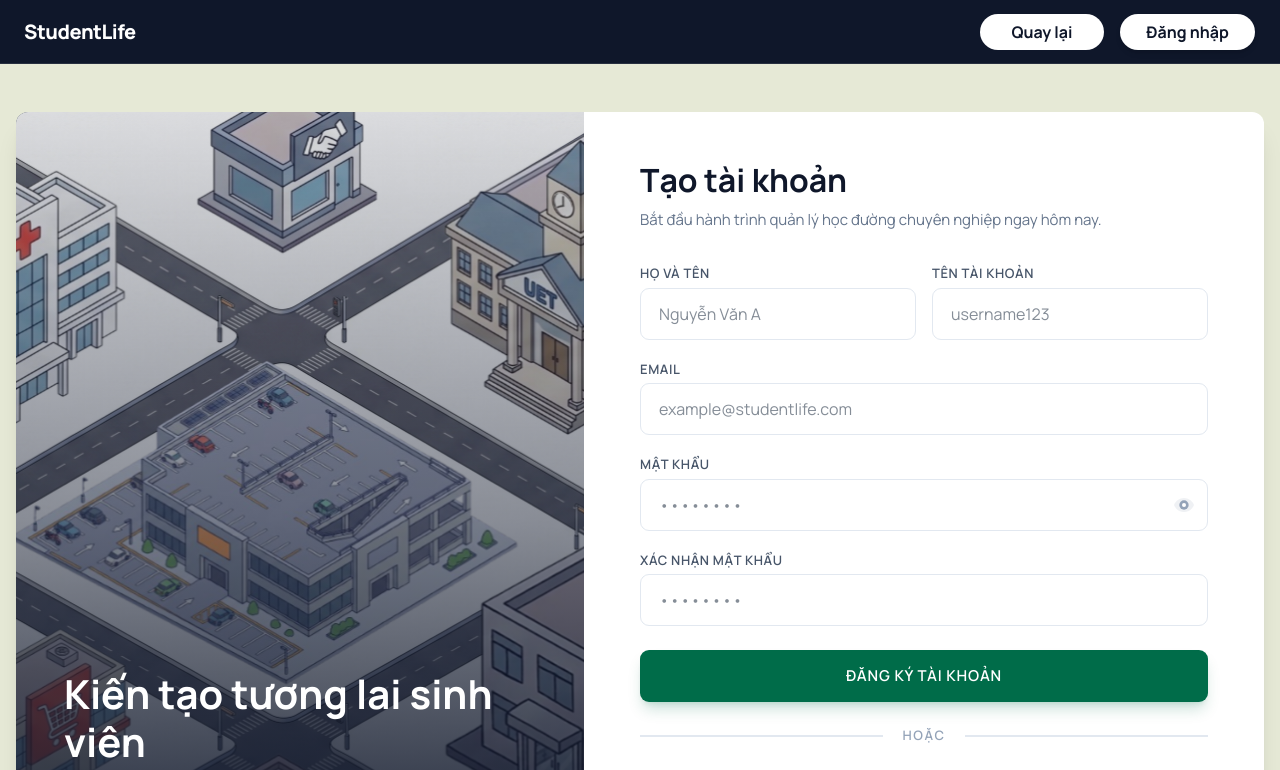
Test: SignUp Component Logic & UI › nên hiển thị lỗi tiếng Việt khi email đã tồn tại trong hệ thống
// Điền nhanh thông tin hợp lệ để trigger hàm handleSubmit[cite: 27]
Type "User Test" into the field with placeholder "Nguyễn Văn A" at (778, 314), box [640,288,916,340]
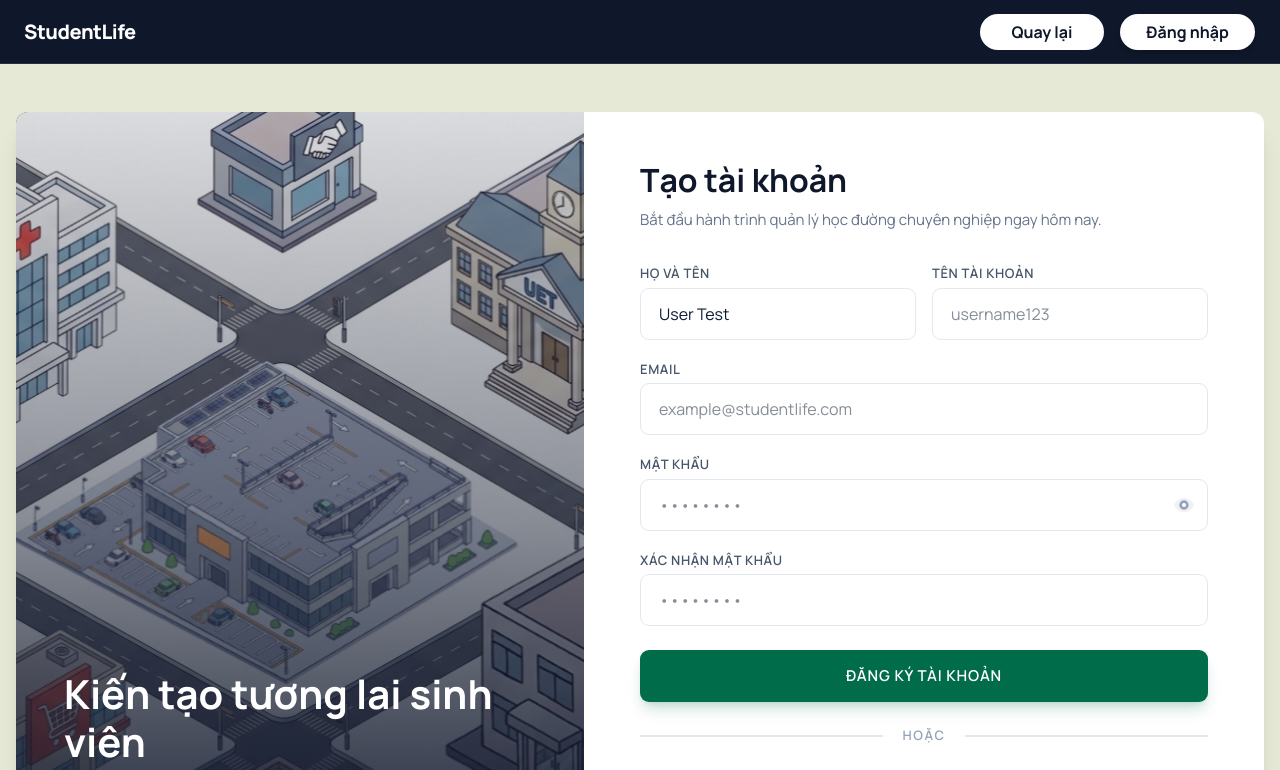
Type "usertest" into the field with placeholder "username123" at (1070, 314), box [932,288,1208,340]
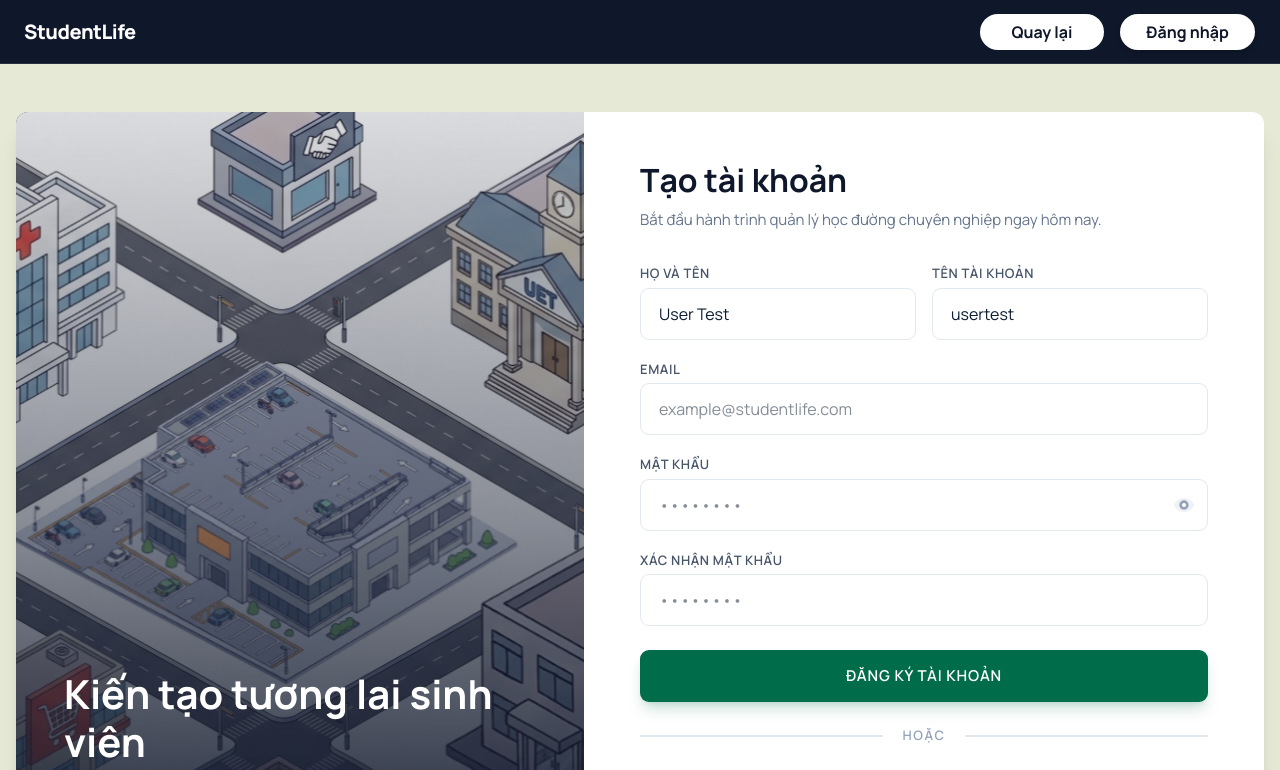
Type "test@gmail.com" into the field with placeholder "example@studentlife.com" at (924, 409), box [640,383,1208,435]
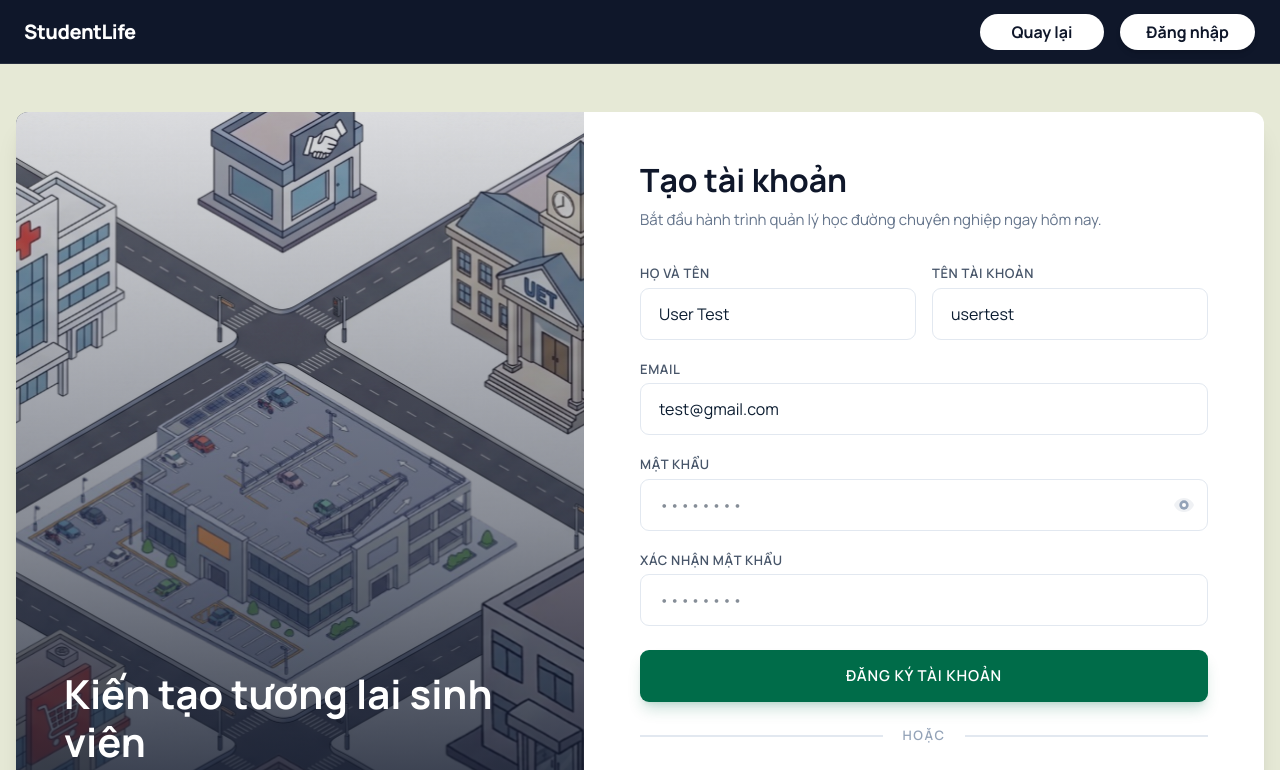
Type "password123" into the password field labelled "MẬT KHẨU" at (924, 504), box [640,478,1208,530]
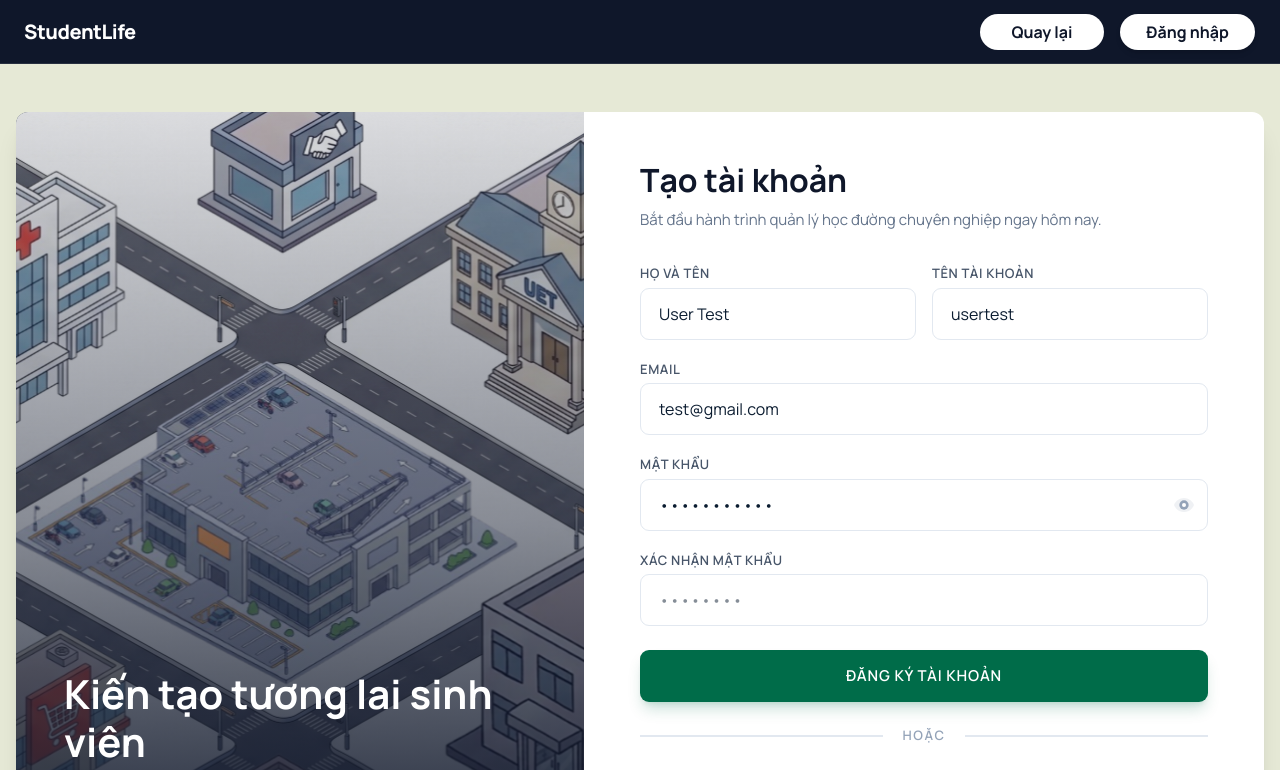
Type "password123" into the password field labelled "XÁC NHẬN MẬT KHẨU" at (924, 600), box [640,574,1208,626]
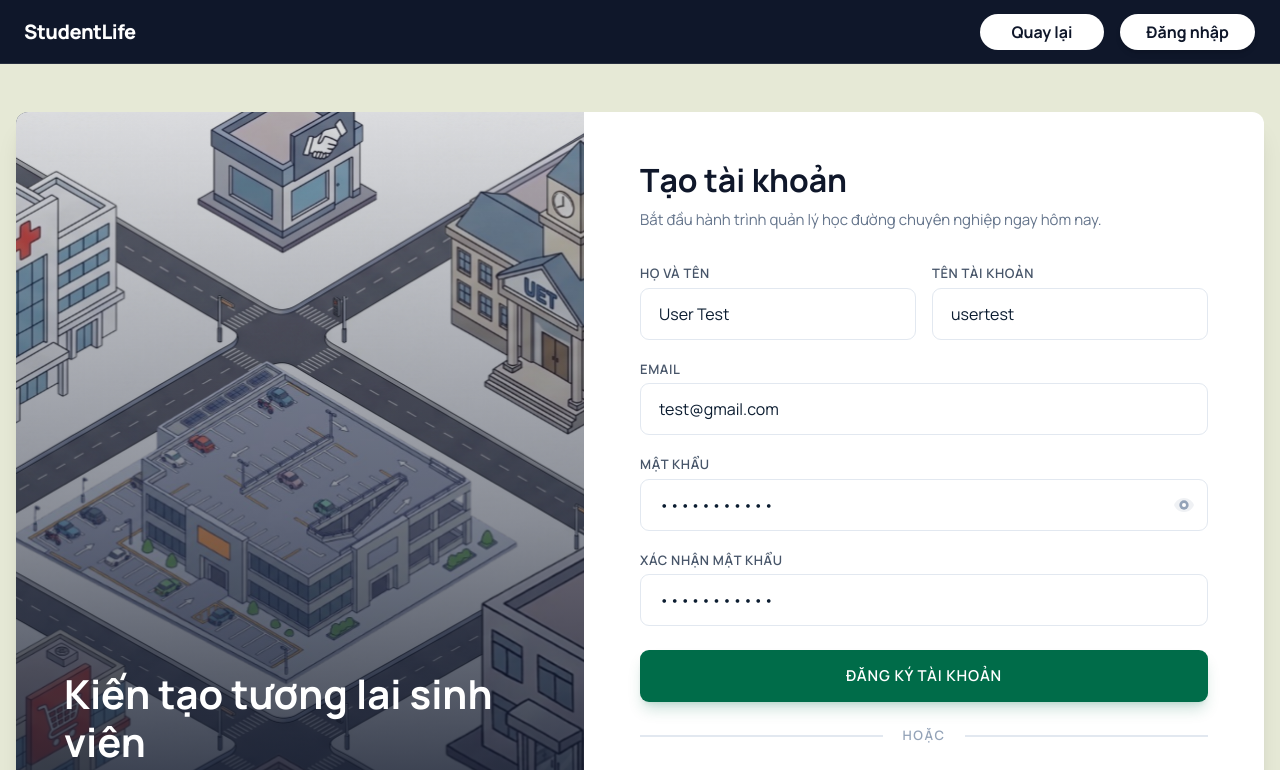
Click the button "ĐĂNG KÝ TÀI KHOẢN" at (924, 676), box [640,650,1208,702]
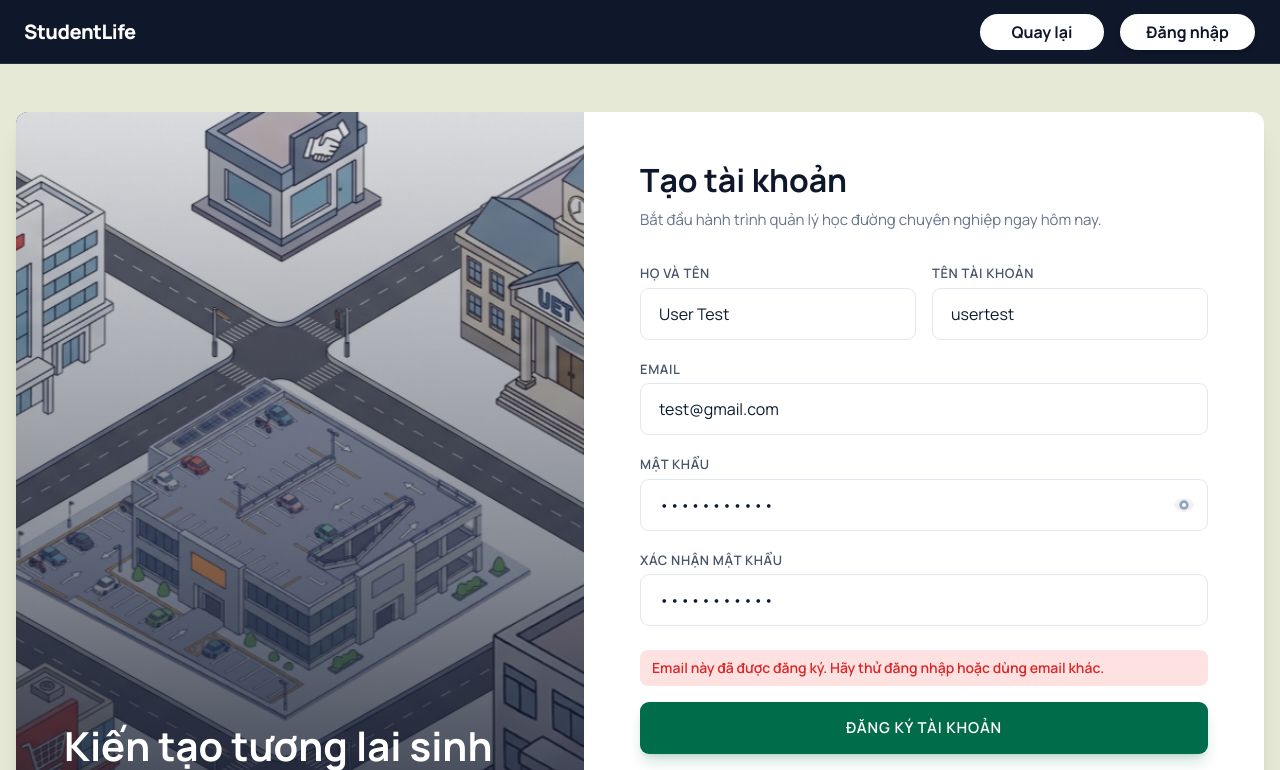
Expected: the text "Email này đã được đăng ký" is shown, [652,658,1104,677]
